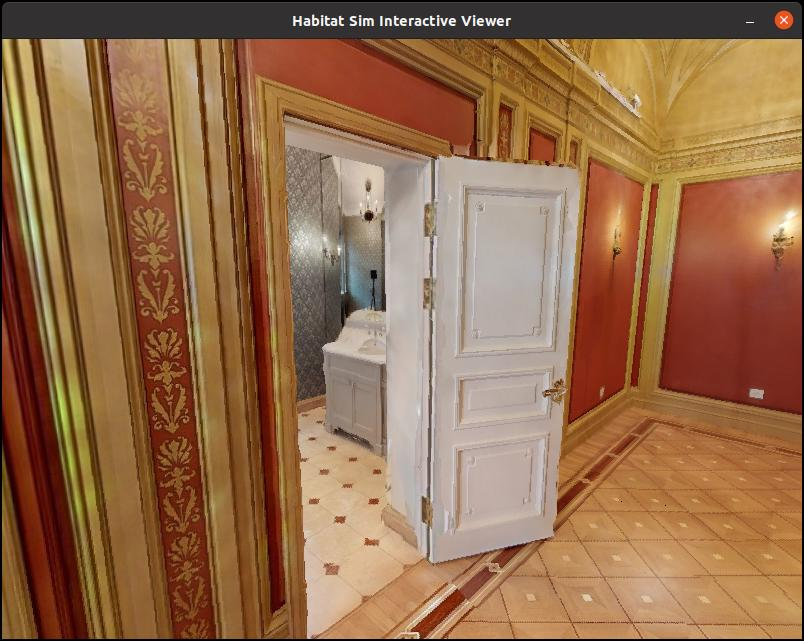door: (416, 150, 597, 569)
